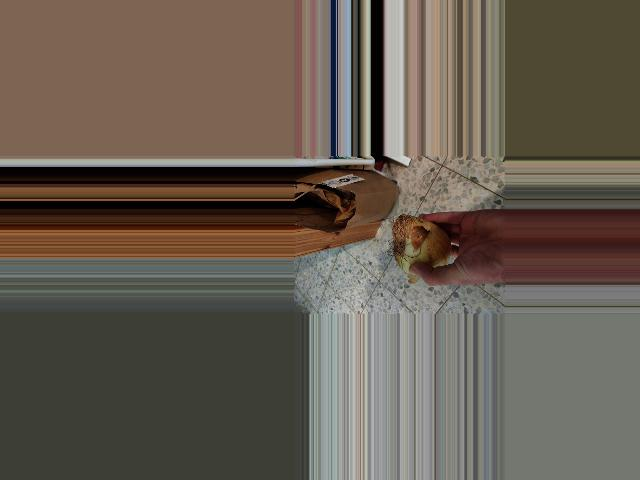onion: (387, 215, 454, 279)
